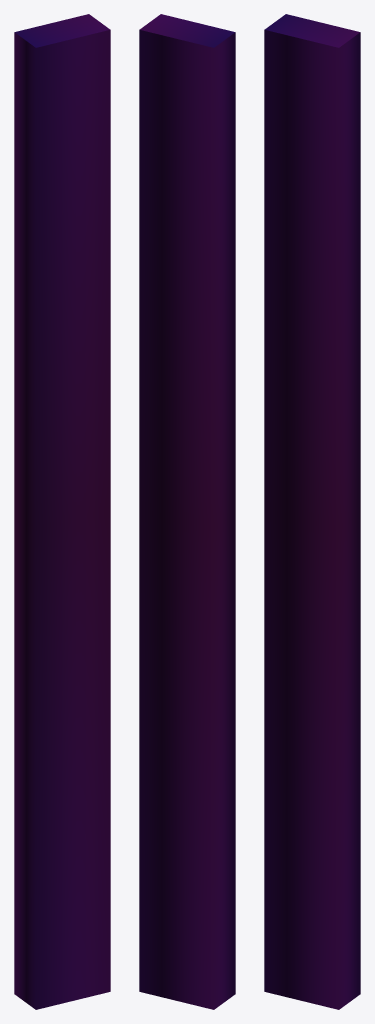
The picture shows the model from 3 angles, left to right: view 1: azimuth 30°, elevation 25°; view 2: azimuth 150°, elevation 25°; view 3: azimuth 330°, elevation 25°; orthographic projection.
Visible parts, largest first — view 1: part; view 2: part; view 3: part.
Boxes of the visible parts, box(x1,y1,x2,y2) form: part: box(14, 14, 110, 1009); part: box(139, 14, 235, 1009); part: box(264, 14, 360, 1009).
Size of the model in its own units: 774 by 9546 by 387.
